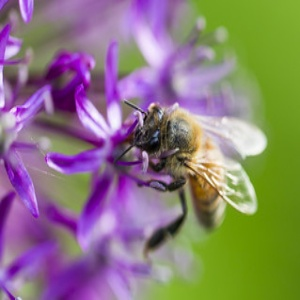bee: (118, 97, 269, 262)
